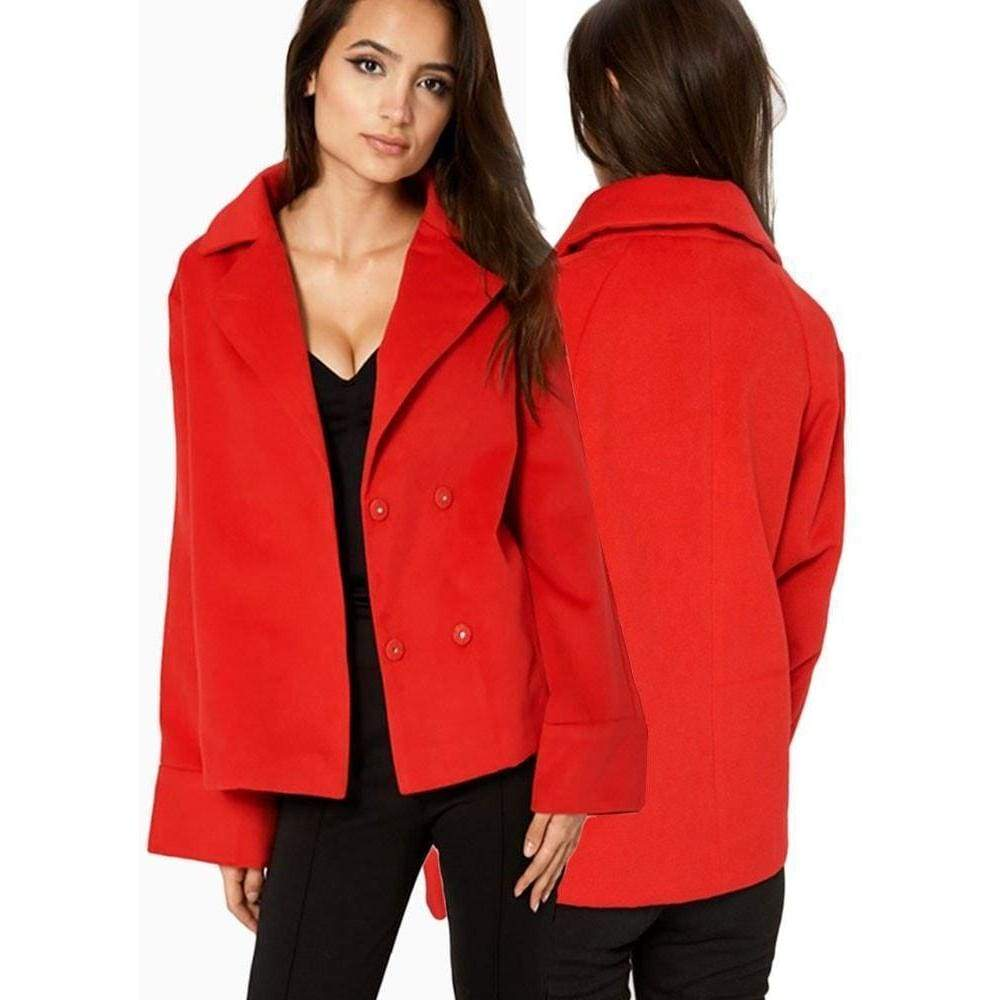F_W_suit jacket: (124, 153, 632, 844)
